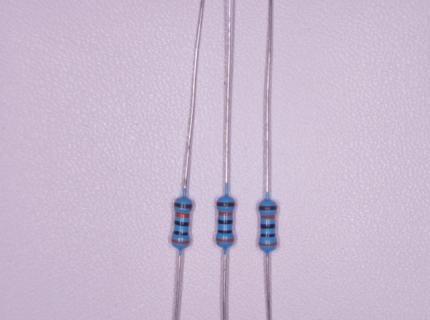Black band: (174, 220, 189, 226), (260, 233, 276, 238), (260, 224, 275, 229), (218, 229, 233, 234), (173, 230, 188, 235), (218, 220, 233, 224)
Brown band: (174, 202, 192, 209), (217, 201, 235, 207), (258, 205, 277, 210)
Orange band: (171, 238, 190, 244), (175, 212, 189, 218), (218, 211, 233, 216), (216, 238, 234, 242), (259, 242, 277, 246), (261, 215, 275, 219)
